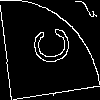C: (24, 25, 71, 68)
